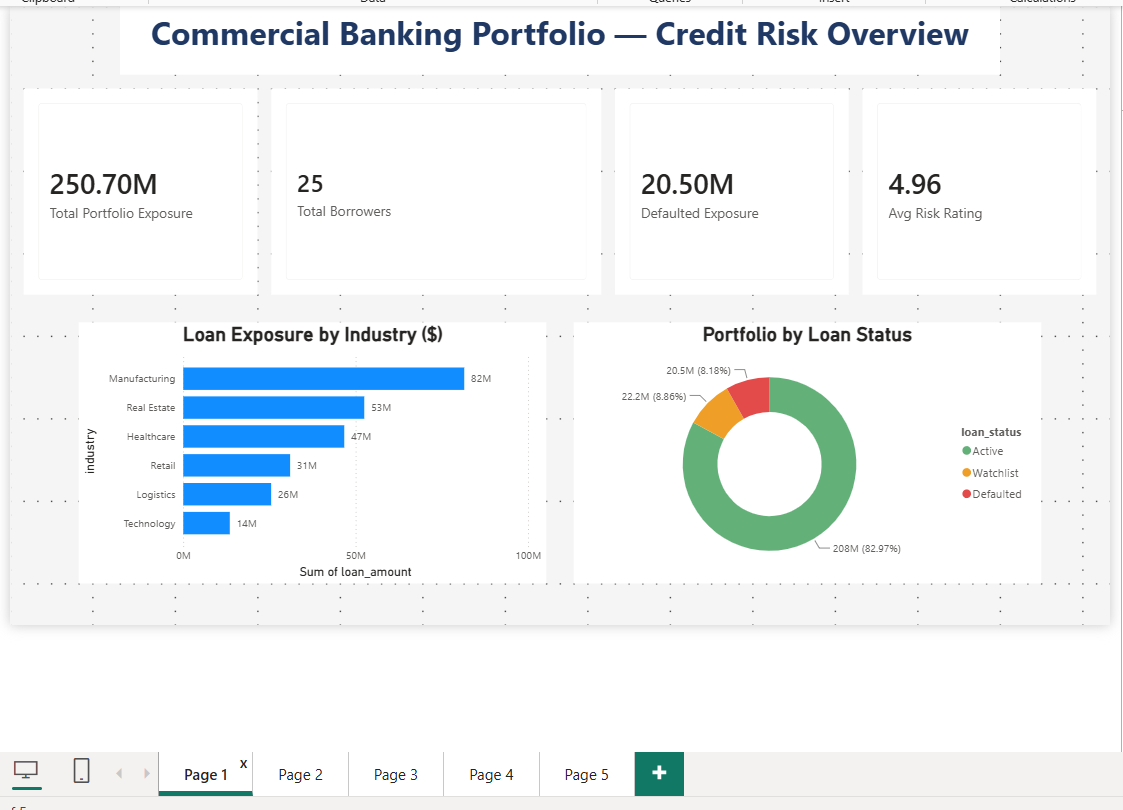

The page's visual inventory and layout, read from the dashboard file:
{"tool":"powerbi","page":{"name":"Page 1","canvas":[1280,720],"ordinal":0},"visuals":[{"type":"textbox","box":[128,0,1024,80],"z":0},{"type":"cardVisual","fields":{"Data":["Sum(borrowers_data.loan_amount)"]},"box":[16,96,272,240],"z":1000},{"type":"cardVisual","fields":{"Data":["Count(borrowers_data.company_name)"]},"box":[304,96,384,240],"z":2000},{"type":"cardVisual","fields":{"Data":["Avg(borrowers_data.risk_rating)"]},"box":[992,96,272,240],"z":3000},{"type":"cardVisual","fields":{"Data":["Sum(borrowers_data.loan_amount)"]},"box":[704,96,272,240],"z":4000},{"type":"clusteredBarChart","title":"Loan Exposure by Industry ($)","fields":{"Category":["borrowers_data.industry"],"Y":["Sum(borrowers_data.loan_amount)"]},"box":[80,368,544,304],"z":5000},{"type":"donutChart","title":"Portfolio by Loan Status","fields":{"Category":["borrowers_data.loan_status"],"Y":["Sum(borrowers_data.loan_amount)"]},"box":[656,368,544,304],"z":6000}]}

Visuals, with their boxes on the page's 1280x720 design canvas (x1, y1, x2, y2). These are canvas units, not pixel positions in the 1123x810 screenshot, which may show the page scaled, cropped or inside an application window:
textbox: bbox=(128, 0, 1152, 80)
cardVisual - Sum(borrowers_data.loan_amount): bbox=(16, 96, 288, 336)
cardVisual - Count(borrowers_data.company_name): bbox=(304, 96, 688, 336)
cardVisual - Avg(borrowers_data.risk_rating): bbox=(992, 96, 1264, 336)
cardVisual - Sum(borrowers_data.loan_amount): bbox=(704, 96, 976, 336)
"Loan Exposure by Industry ($)" clusteredBarChart: bbox=(80, 368, 624, 672)
"Portfolio by Loan Status" donutChart: bbox=(656, 368, 1200, 672)
